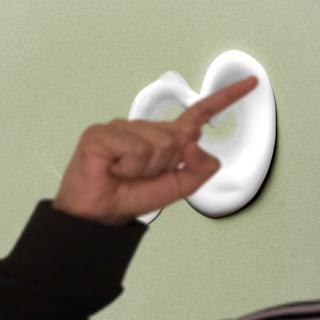WHY: (53, 68, 265, 225)
